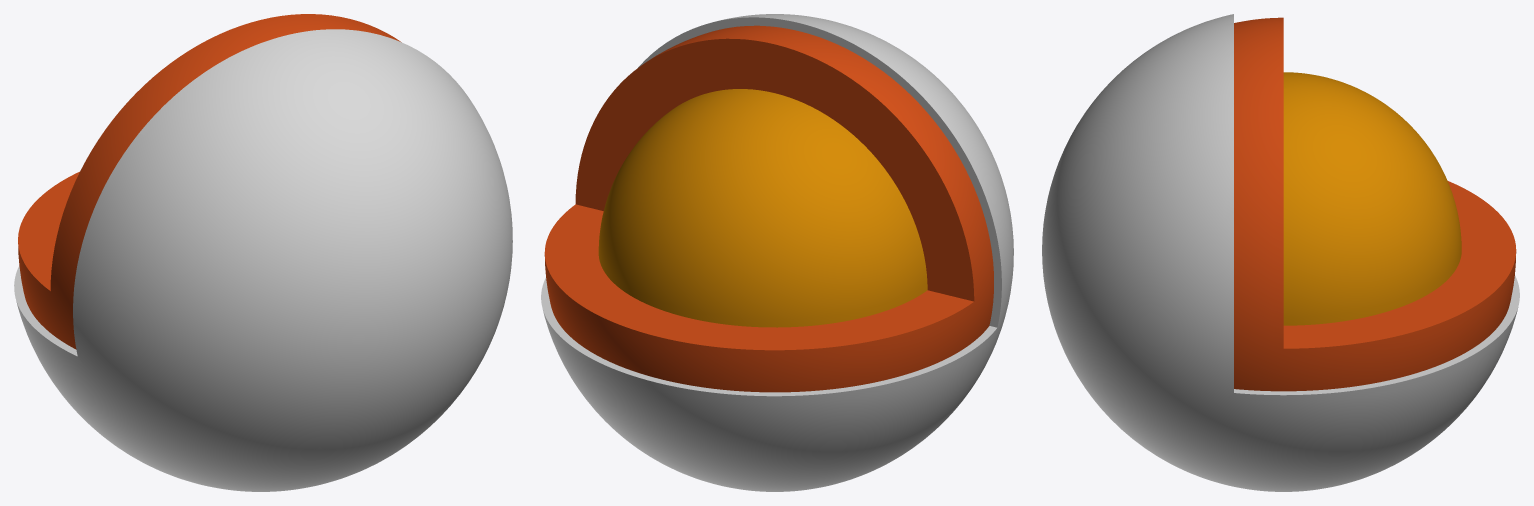
File: MercuryCut.fbx
The picture shows the model from 3 angles, left to right: view 1: azimuth 30°, elevation 25°; view 2: azimuth 150°, elevation 25°; view 3: azimuth 270°, elevation 25°; orthographic projection. The views are drawn at different scales.
Parts seen in each view (by area): view 1: Mercury, MercuryMantle; view 2: MercuryMantle, MercuryCore, Mercury; view 3: Mercury, MercuryMantle, MercuryCore.
Boxes of the visible parts, left/top/right/bottom form: Mercury: left=14, top=29, right=512, bottom=491; MercuryMantle: left=18, top=14, right=401, bottom=349; MercuryMantle: left=544, top=25, right=993, bottom=392; MercuryCore: left=598, top=89, right=927, bottom=327; Mercury: left=541, top=14, right=1013, bottom=491; Mercury: left=1042, top=14, right=1519, bottom=491; MercuryMantle: left=1234, top=17, right=1516, bottom=391; MercuryCore: left=1283, top=72, right=1461, bottom=325.
Size of the model in its own units: 47.75 by 48.28 by 48.28.
